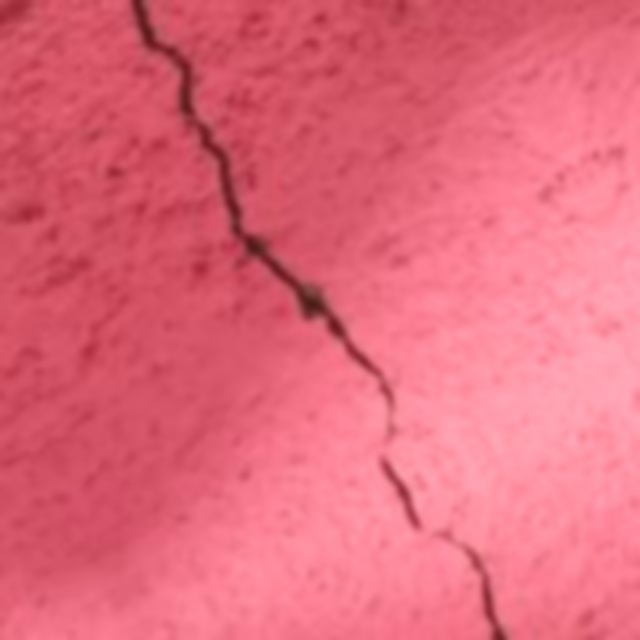SurfaceCrack: (108, 0, 514, 636)
